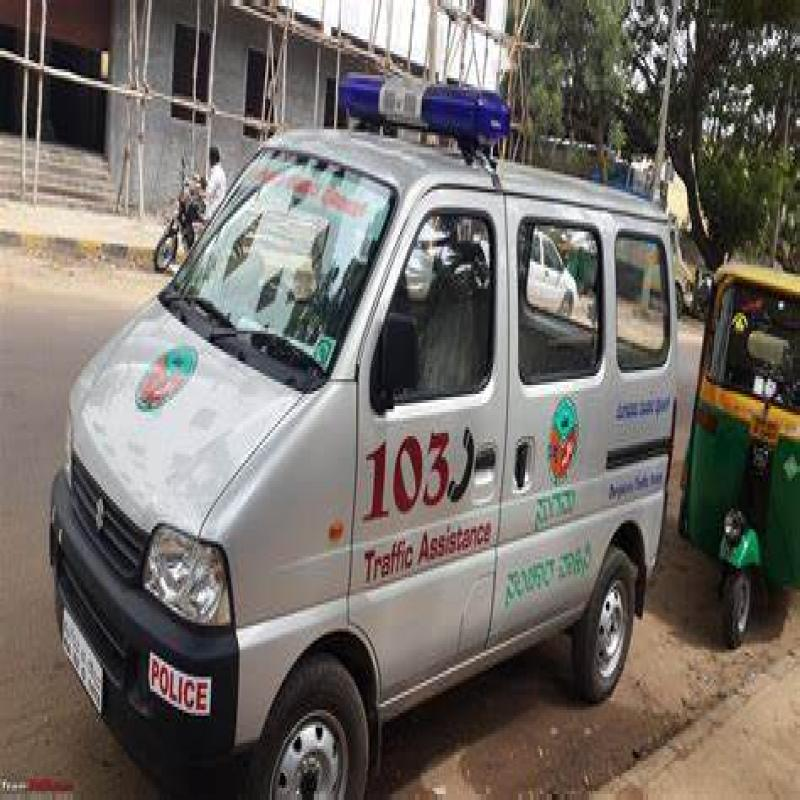AmbulanceSiren: (336, 51, 508, 159)
